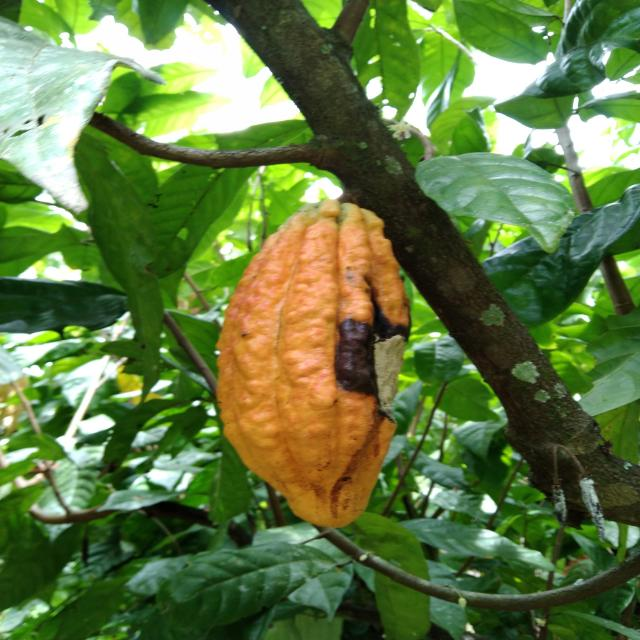Monilia: (209, 202, 411, 532)
